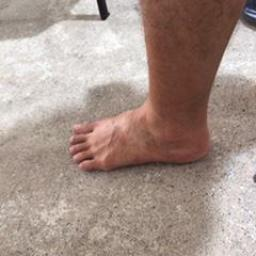Lateral View -Left Foot-: (63, 79, 225, 180)
